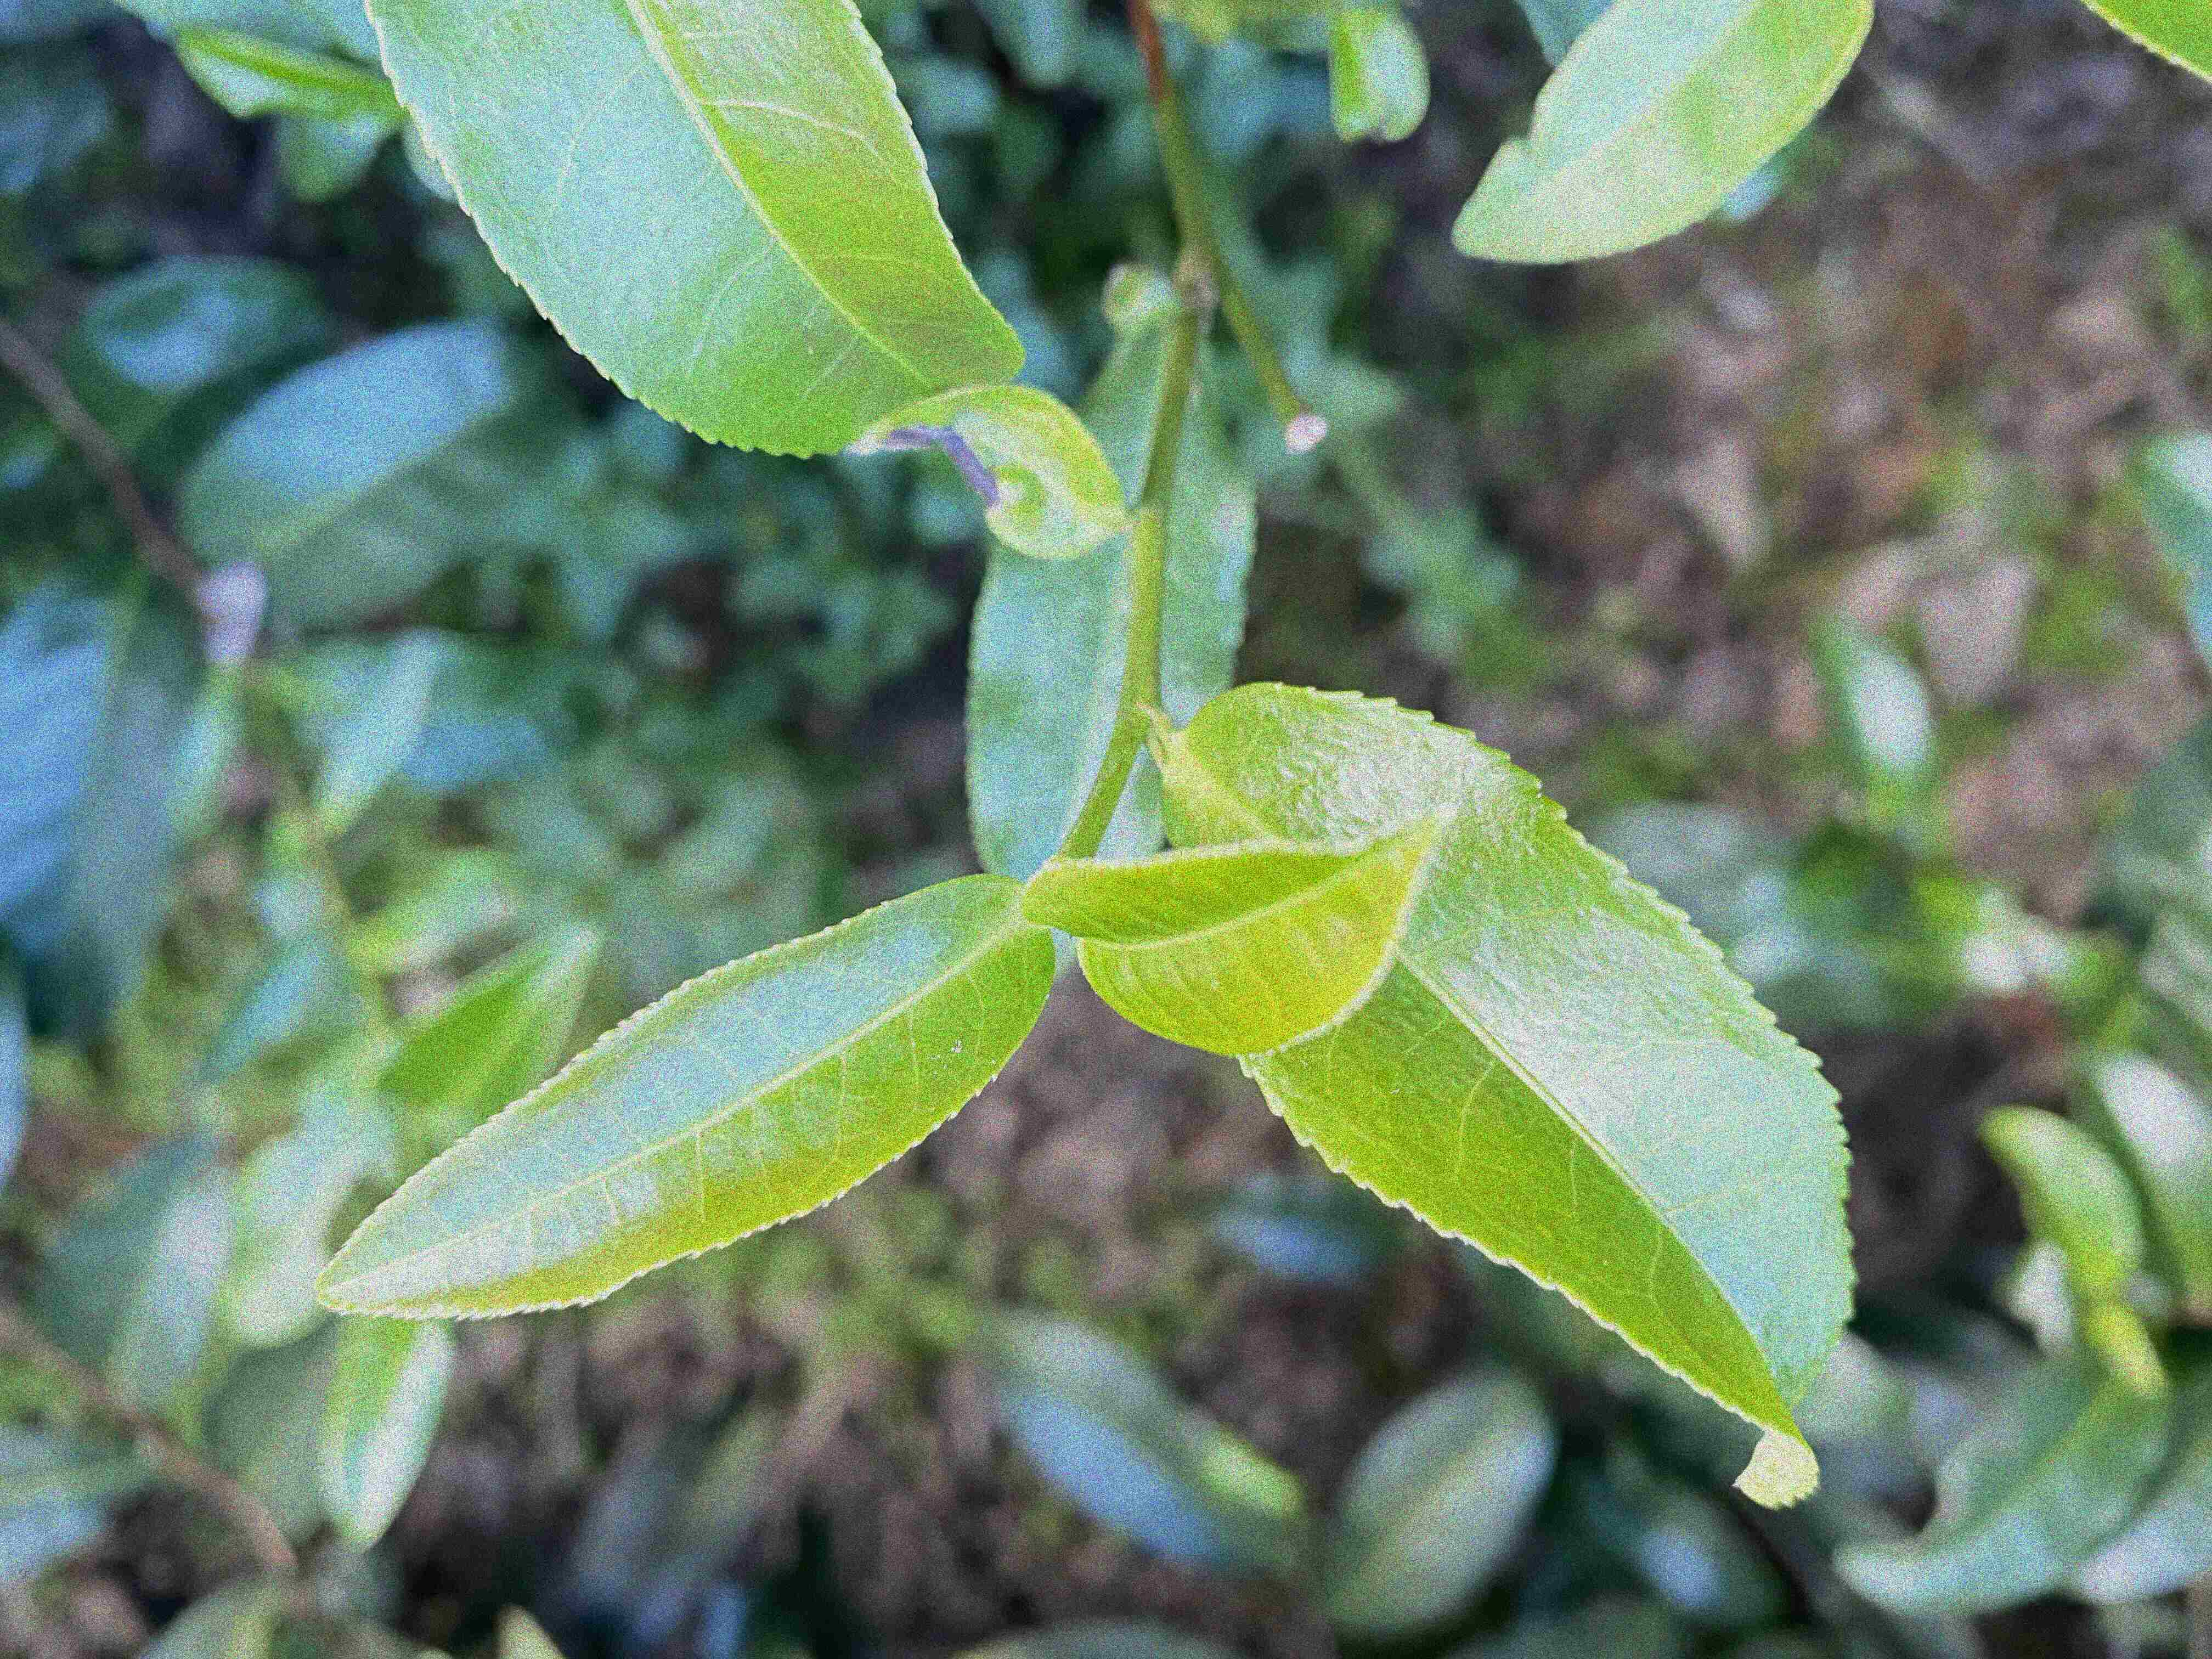healthy: (1158, 676, 1860, 1513), (310, 870, 1057, 1324), (1021, 807, 1453, 1056)
tanju_high: (853, 385, 1125, 563)
